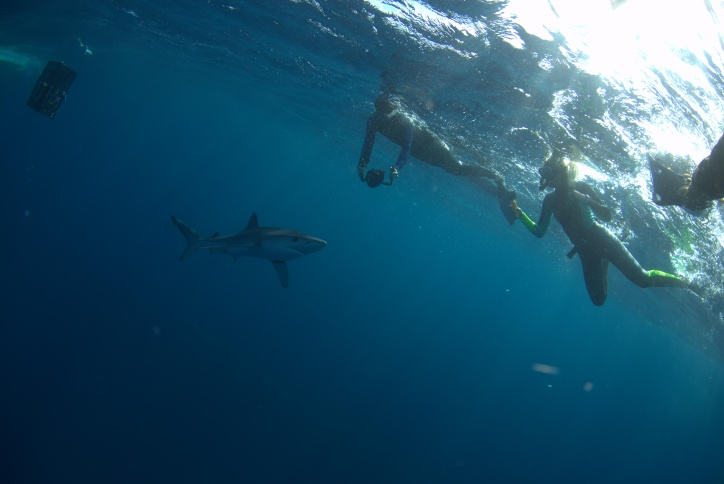Azul: (169, 198, 331, 299)
